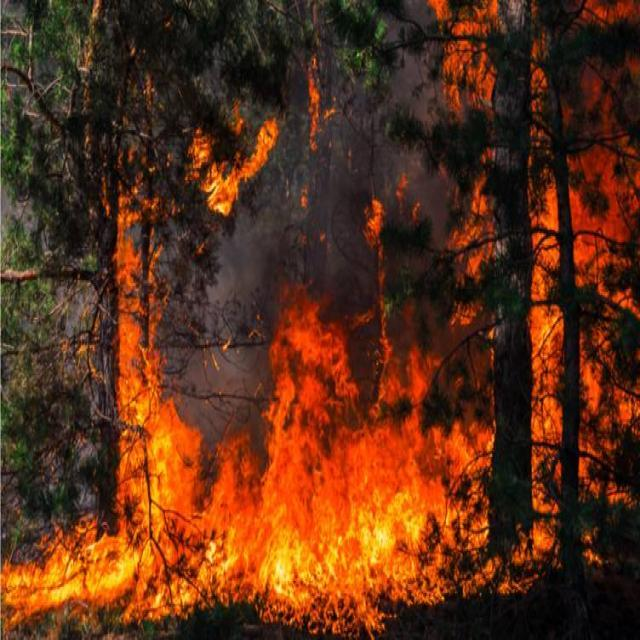Fire: (4, 1, 640, 624)
